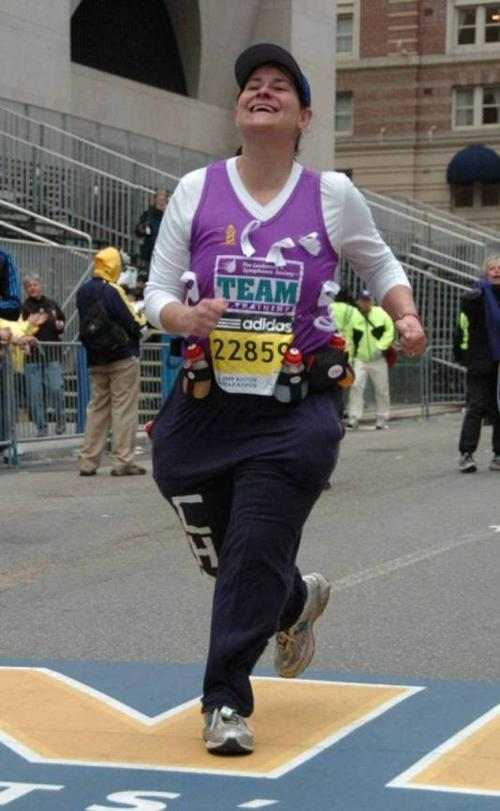person: (141, 33, 429, 765)
